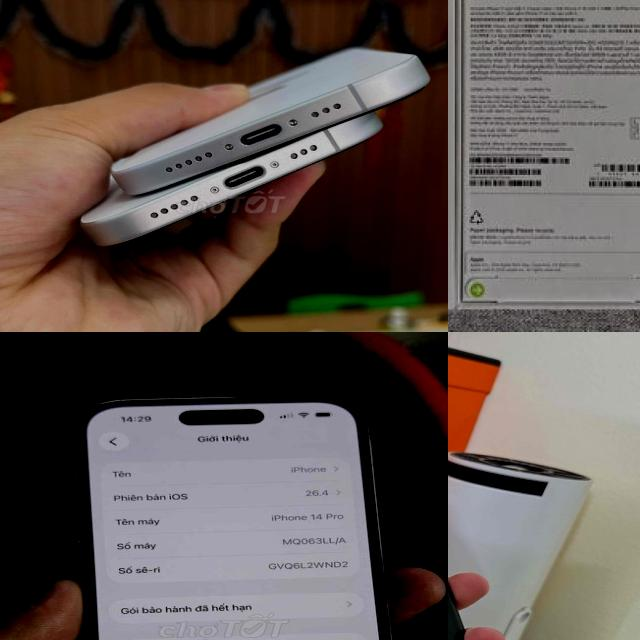gen_14: (56, 387, 420, 640)
gen_17: (81, 113, 381, 246)
